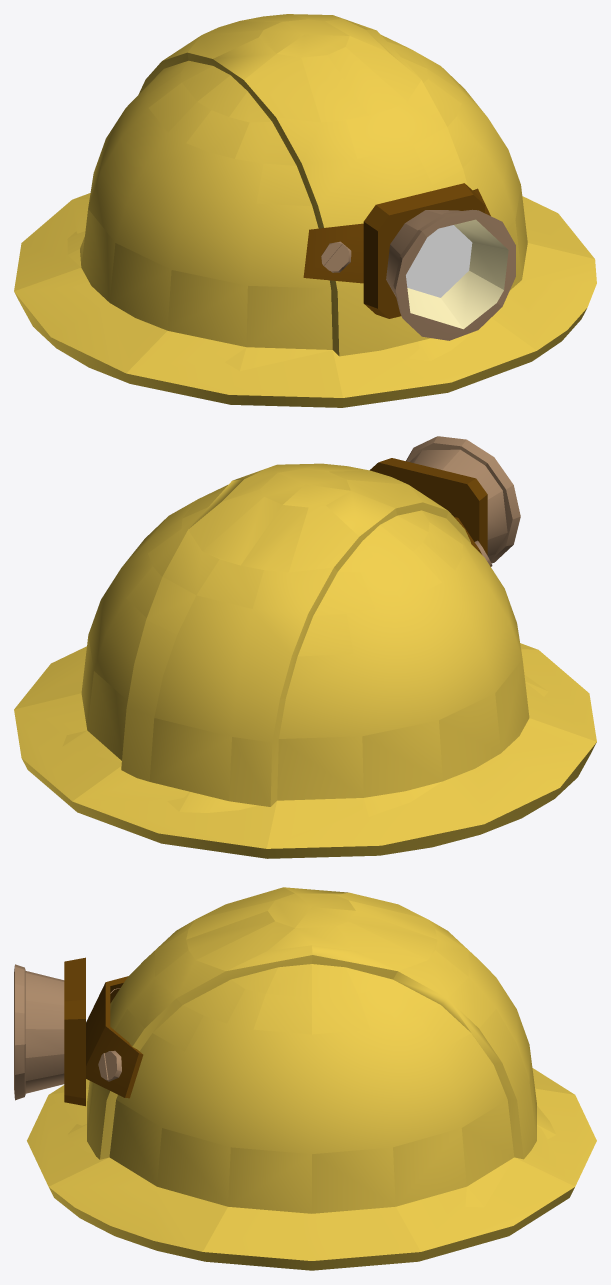
The model's file is Hat_miner.fbx.
3 renders of one model, top to bottom at view 1: azimuth 30°, elevation 25°; view 2: azimuth 150°, elevation 25°; view 3: azimuth 270°, elevation 25°, orthographic. The views are drawn at different scales.
Parts seen in each view (by area): view 1: Hat_miner, Hatlight; view 2: Hat_miner, Hatlight; view 3: Hat_miner, Hatlight.
Boxes of the visible parts, x1,y1,x2,y2 form: Hat_miner: [14, 14, 596, 407]; Hatlight: [303, 183, 515, 340]; Hat_miner: [14, 463, 596, 858]; Hatlight: [370, 436, 520, 566]; Hat_miner: [27, 887, 596, 1270]; Hatlight: [14, 957, 143, 1106].
Size of the model in its own units: 177 by 84.51 by 182.
